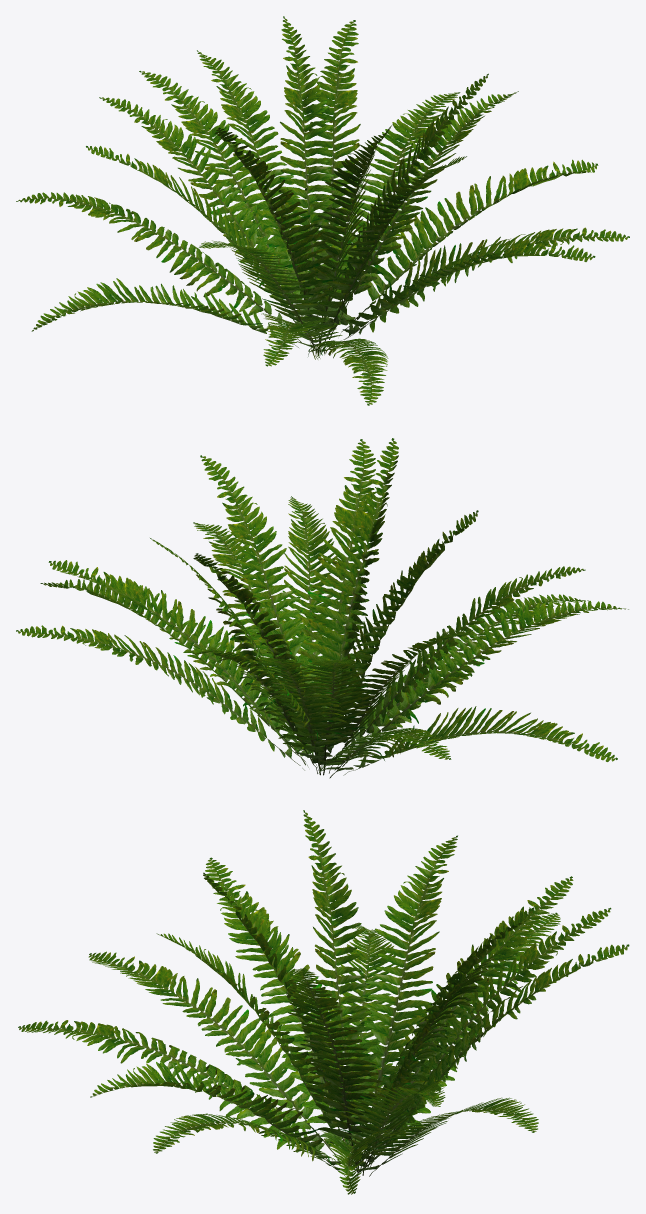
The model's file is plantes.fbx.
3 views of the same model, one above another, from view 1: azimuth 30°, elevation 25°; view 2: azimuth 150°, elevation 25°; view 3: azimuth 270°, elevation 25° (orthographic). The views are drawn at different scales.
Parts seen in each view (by area): view 1: Plant_AAW; view 2: Plant_AAW; view 3: Plant_AAW.
Part boxes in pixels (left/top/right/bottom): Plant_AAW: left=16, top=16, right=629, bottom=405; Plant_AAW: left=16, top=438, right=628, bottom=778; Plant_AAW: left=18, top=810, right=629, bottom=1194.
Size of the model in its own units: 198 by 91.48 by 170.
